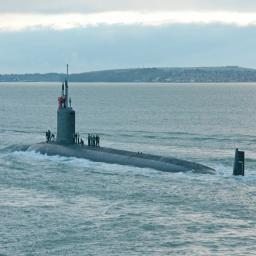submarine: (25, 65, 245, 177)
